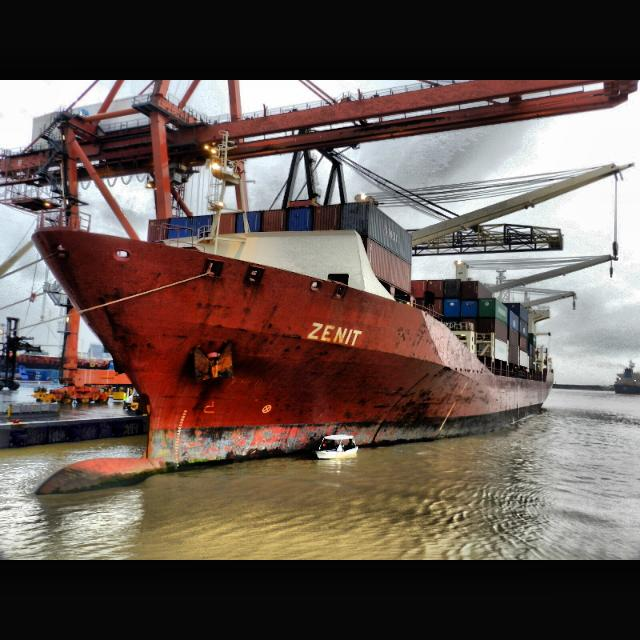container: (26, 189, 558, 501)
